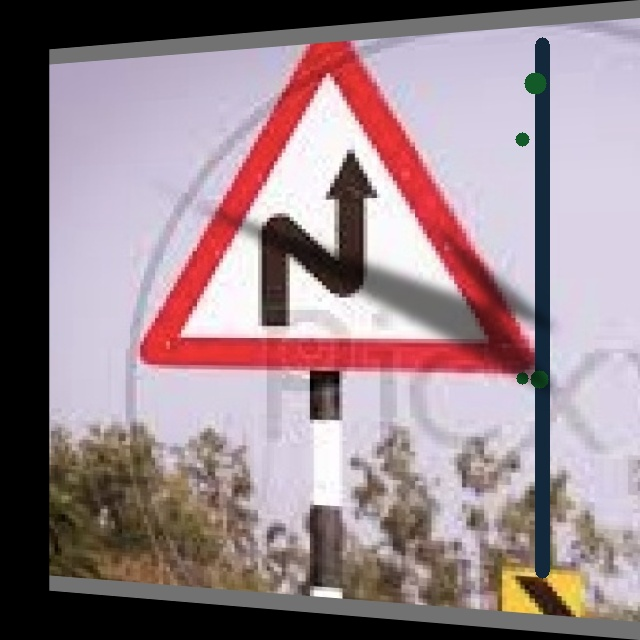Right_Reverse_Bend: (154, 50, 529, 374)
